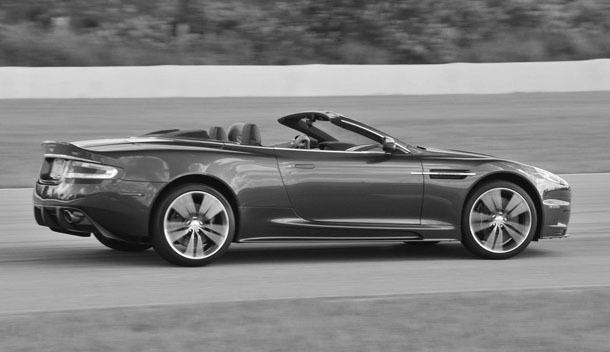car: (32, 109, 575, 267)
